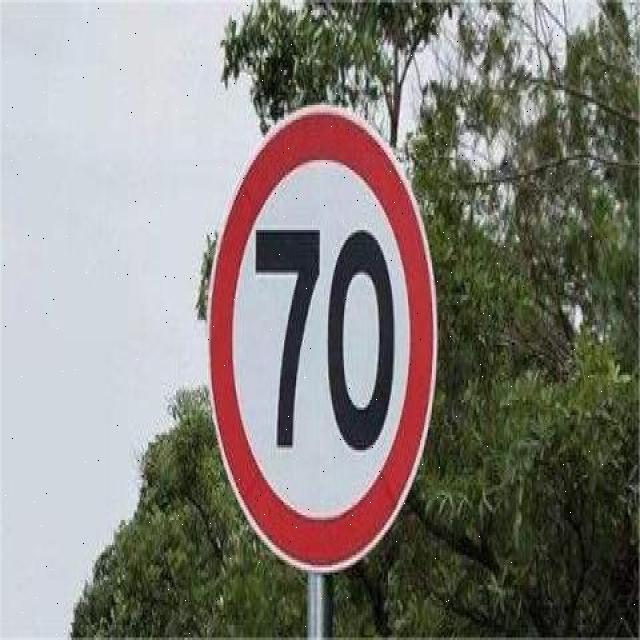speed limit 70: (205, 104, 436, 572)
